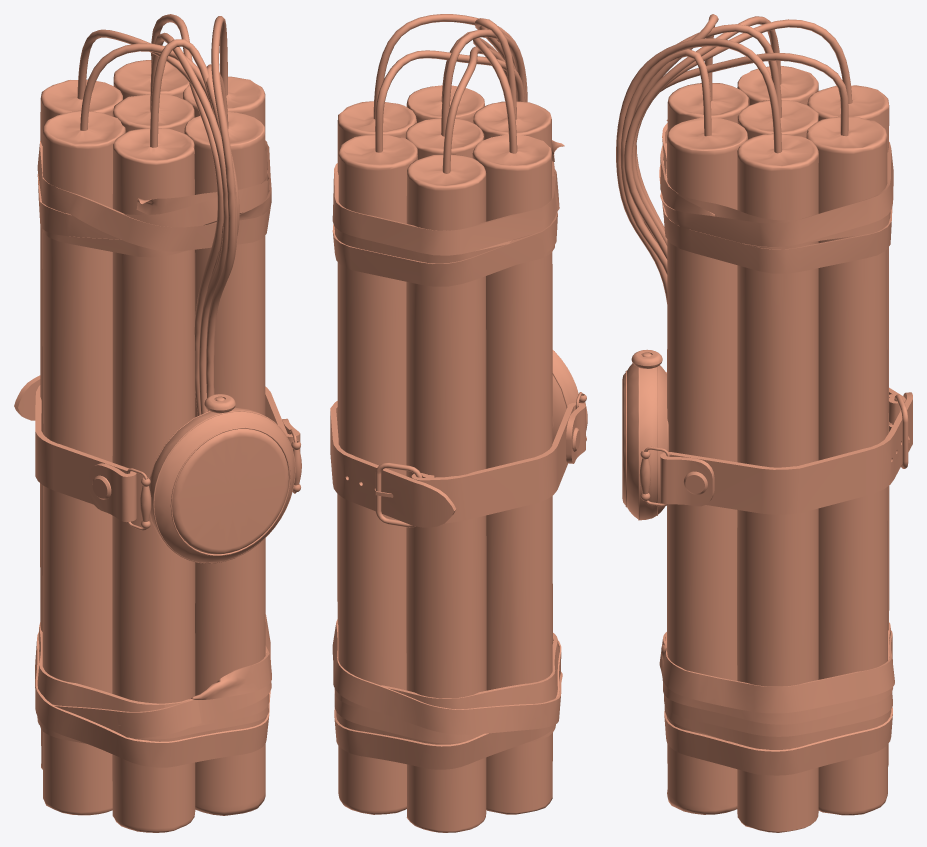
File: Dynamite.fbx
3 renders of one model, left to right at view 1: azimuth 30°, elevation 25°; view 2: azimuth 150°, elevation 25°; view 3: azimuth 270°, elevation 25°, orthographic. The views are drawn at different scales.
Parts seen in each view (by area): view 1: Dynamite; view 2: Dynamite; view 3: Dynamite.
Part boxes in pixels (x1,y1,x2,y2): Dynamite: [14, 14, 301, 832]; Dynamite: [330, 14, 587, 832]; Dynamite: [616, 14, 912, 832].
Bounding box in the file's own units: 6.9 × 22.75 × 8.02.
